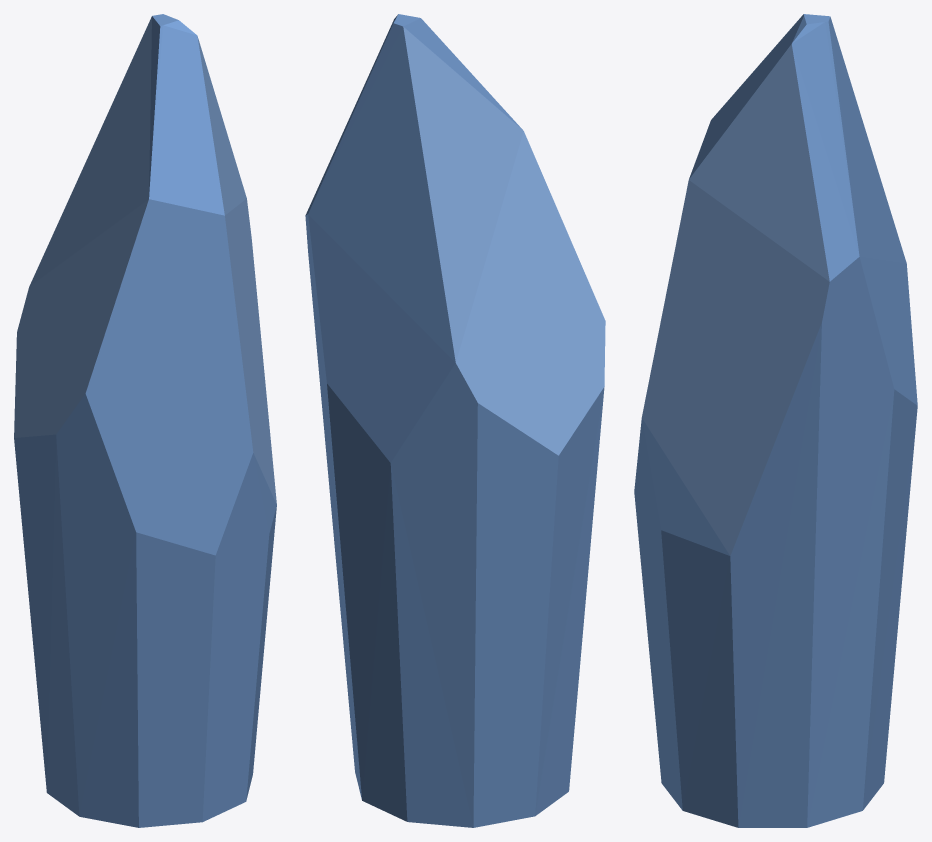
The model's file is crystal_7.fbx.
3 renders of one model, left to right at view 1: azimuth 30°, elevation 25°; view 2: azimuth 150°, elevation 25°; view 3: azimuth 270°, elevation 25°, orthographic. The views are drawn at different scales.
Visible parts, largest first — view 1: crystal_7; view 2: crystal_7; view 3: crystal_7.
Boxes of the visible parts, x1=… form: crystal_7: x1=14, y1=14, x2=276, y2=827; crystal_7: x1=305, y1=14, x2=605, y2=827; crystal_7: x1=634, y1=14, x2=917, y2=827.
Size of the model in its own units: 35.03 by 103 by 33.86.
